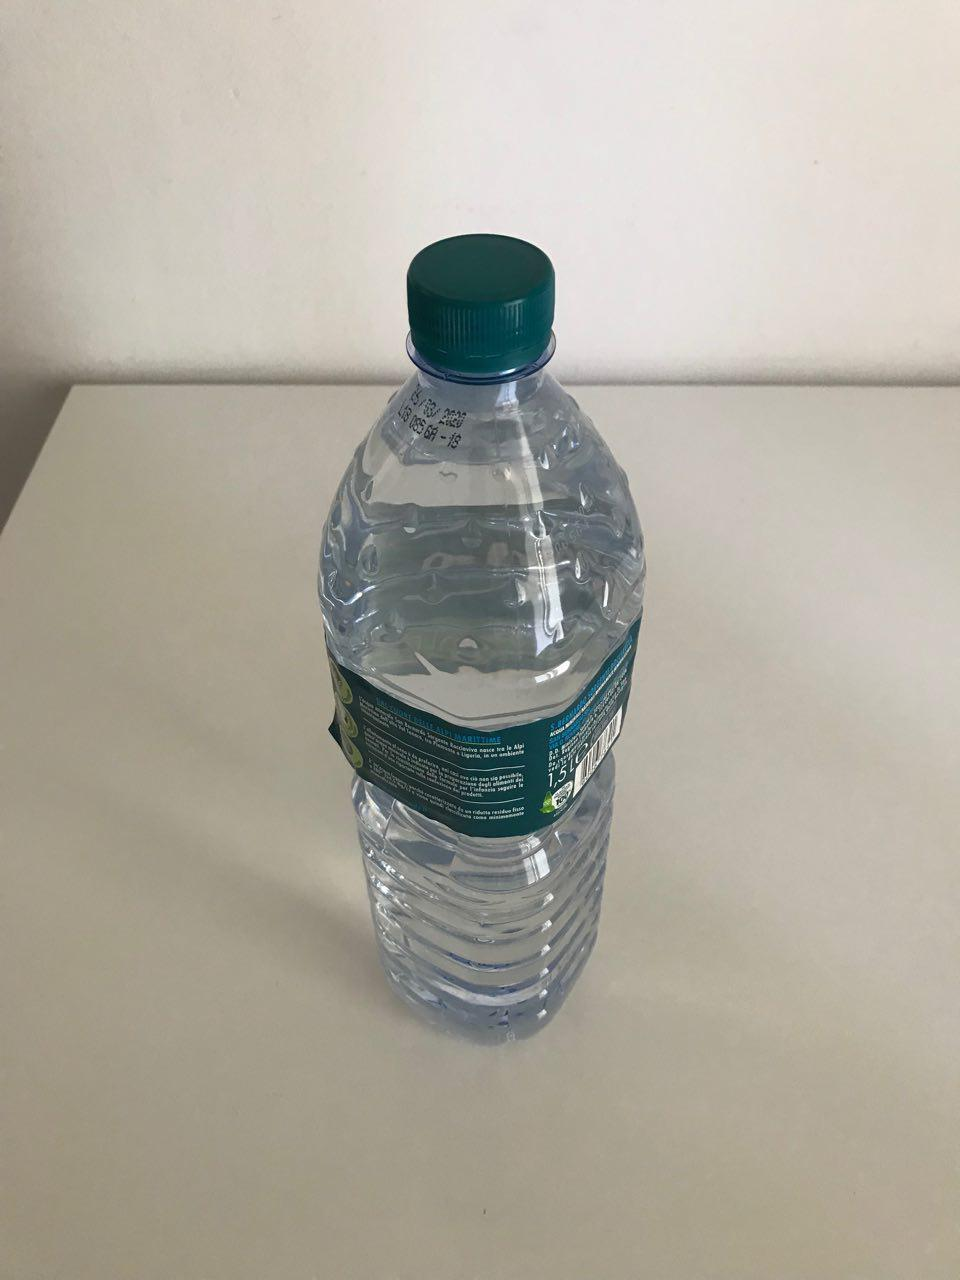san_bernardo: (316, 232, 648, 1045)
